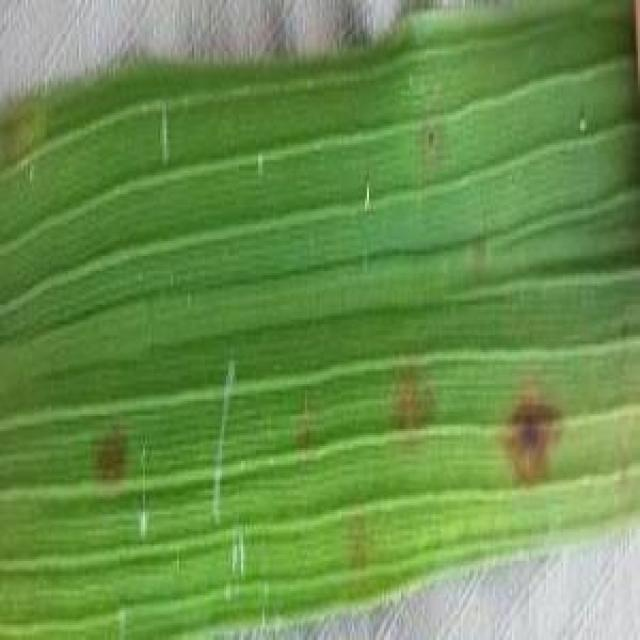Brown_Spot: (478, 390, 584, 496), (377, 364, 433, 438), (81, 426, 131, 474)
